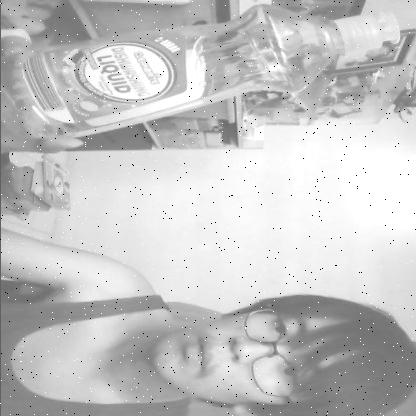Plastic Bottle: (0, 1, 410, 146)
